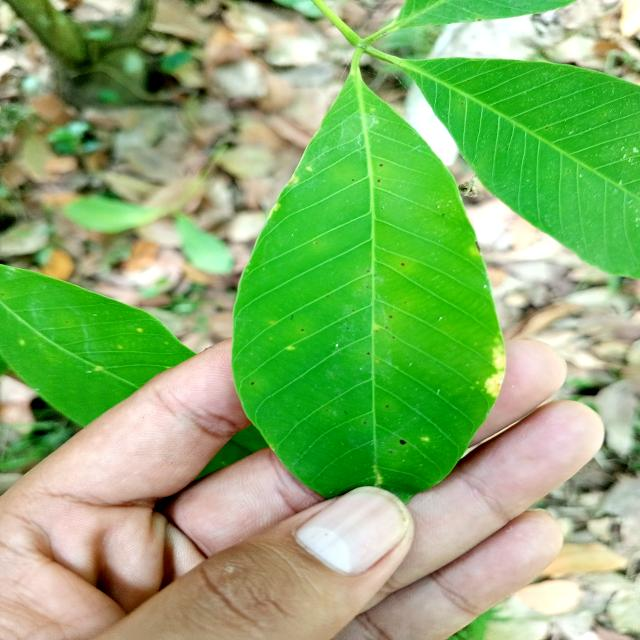Colletotrichum: (400, 440, 406, 444)
Leaf-Blight: (484, 346, 506, 398)
